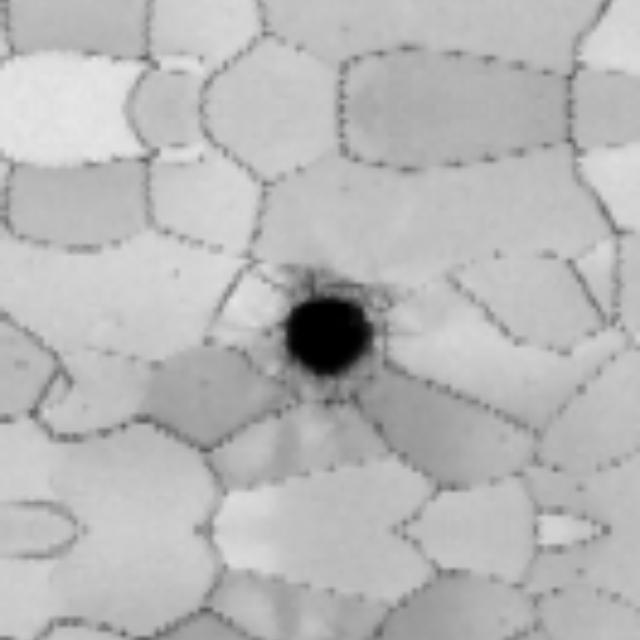good_void: (259, 263, 410, 399)
